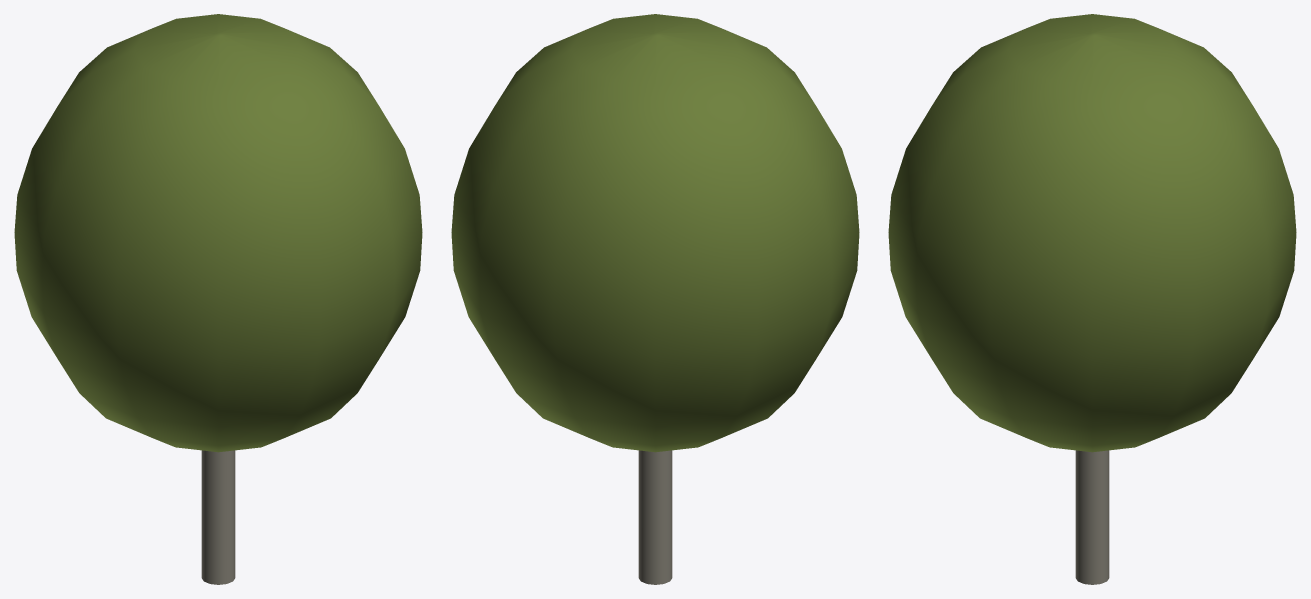
Rendered from Sugar_Maple_Analytical_0.obj.
3 renders of one model, left to right at view 1: azimuth 30°, elevation 25°; view 2: azimuth 150°, elevation 25°; view 3: azimuth 270°, elevation 25°, orthographic.
Visible parts, largest first — view 1: AnalyticalCrown, AnalyticalTrunk; view 2: AnalyticalCrown, AnalyticalTrunk; view 3: AnalyticalCrown, AnalyticalTrunk.
Boxes of the visible parts, x1=… form: AnalyticalCrown: x1=14, y1=14, x2=422, y2=452; AnalyticalTrunk: x1=201, y1=450, x2=235, y2=584; AnalyticalCrown: x1=451, y1=14, x2=859, y2=452; AnalyticalTrunk: x1=638, y1=450, x2=672, y2=584; AnalyticalCrown: x1=888, y1=14, x2=1296, y2=452; AnalyticalTrunk: x1=1075, y1=450, x2=1109, y2=584.
Bounding box in the file's own units: 20.42 × 30 × 20.42.
